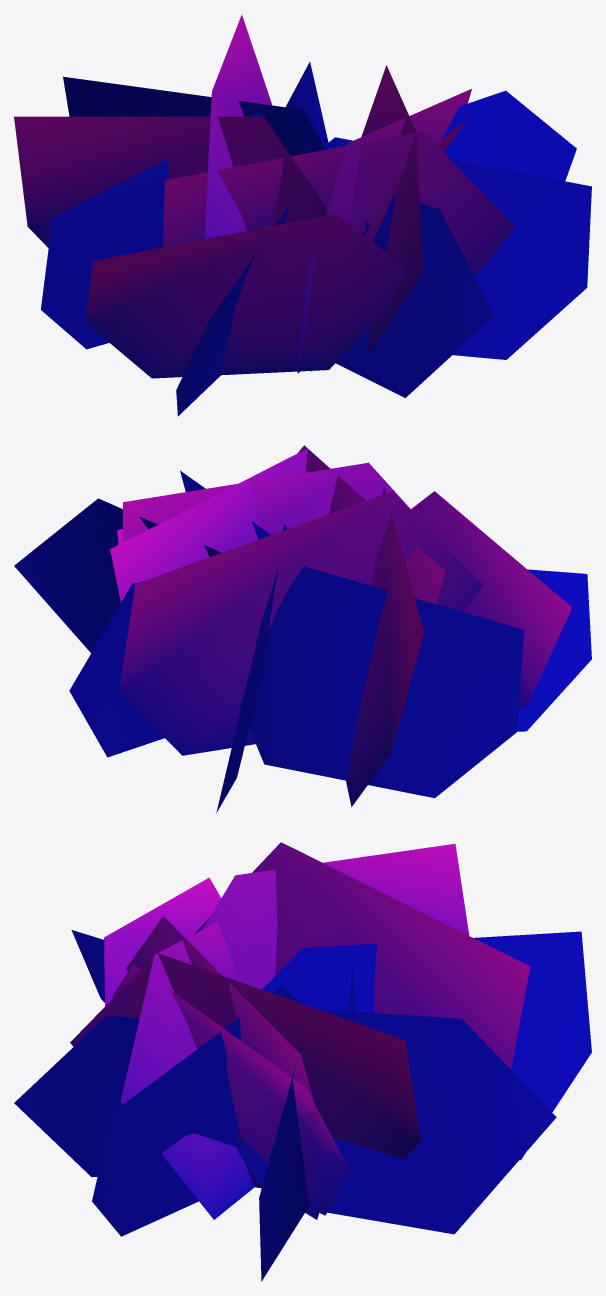
Rendered from SM_Grass_03.fbx.
3 renders of one model, top to bottom at view 1: azimuth 30°, elevation 25°; view 2: azimuth 150°, elevation 25°; view 3: azimuth 270°, elevation 25°, orthographic. The views are drawn at different scales.
Visible parts, largest first — view 1: SM_Grass_03_LOD0; view 2: SM_Grass_03_LOD0; view 3: SM_Grass_03_LOD0.
Boxes of the visible parts, box(x1,y1,x2,y2) form: SM_Grass_03_LOD0: box(14, 14, 591, 416); SM_Grass_03_LOD0: box(14, 445, 591, 812); SM_Grass_03_LOD0: box(14, 842, 591, 1281).
Bounding box in the file's own units: 29.26 × 26.12 × 14.2.
